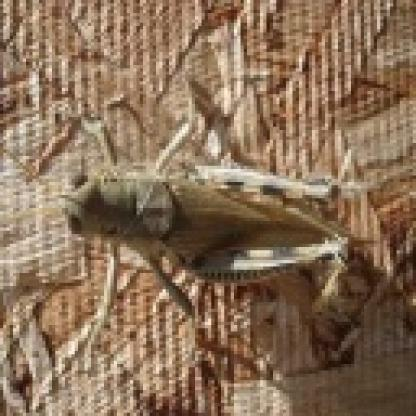grasshopper: (52, 110, 372, 291)
